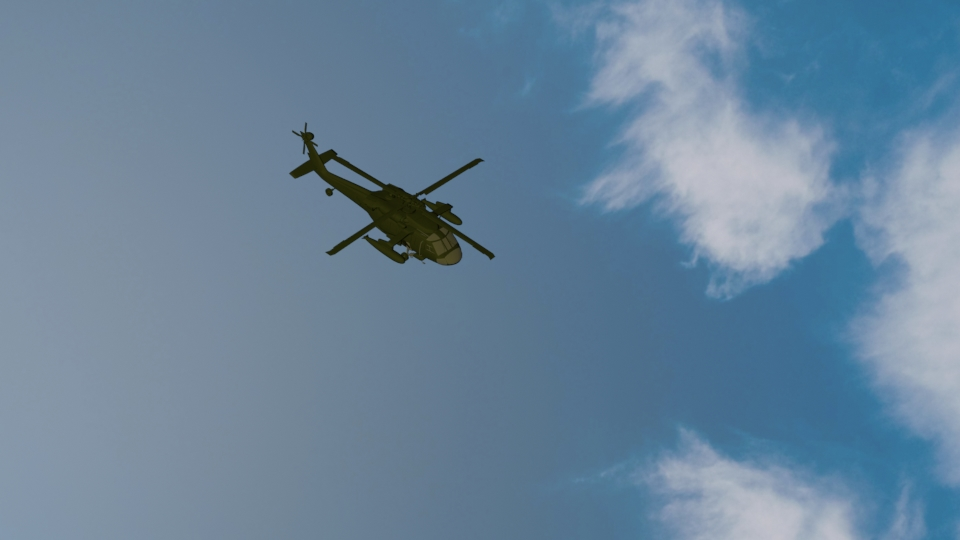heli: (290, 125, 495, 263)
